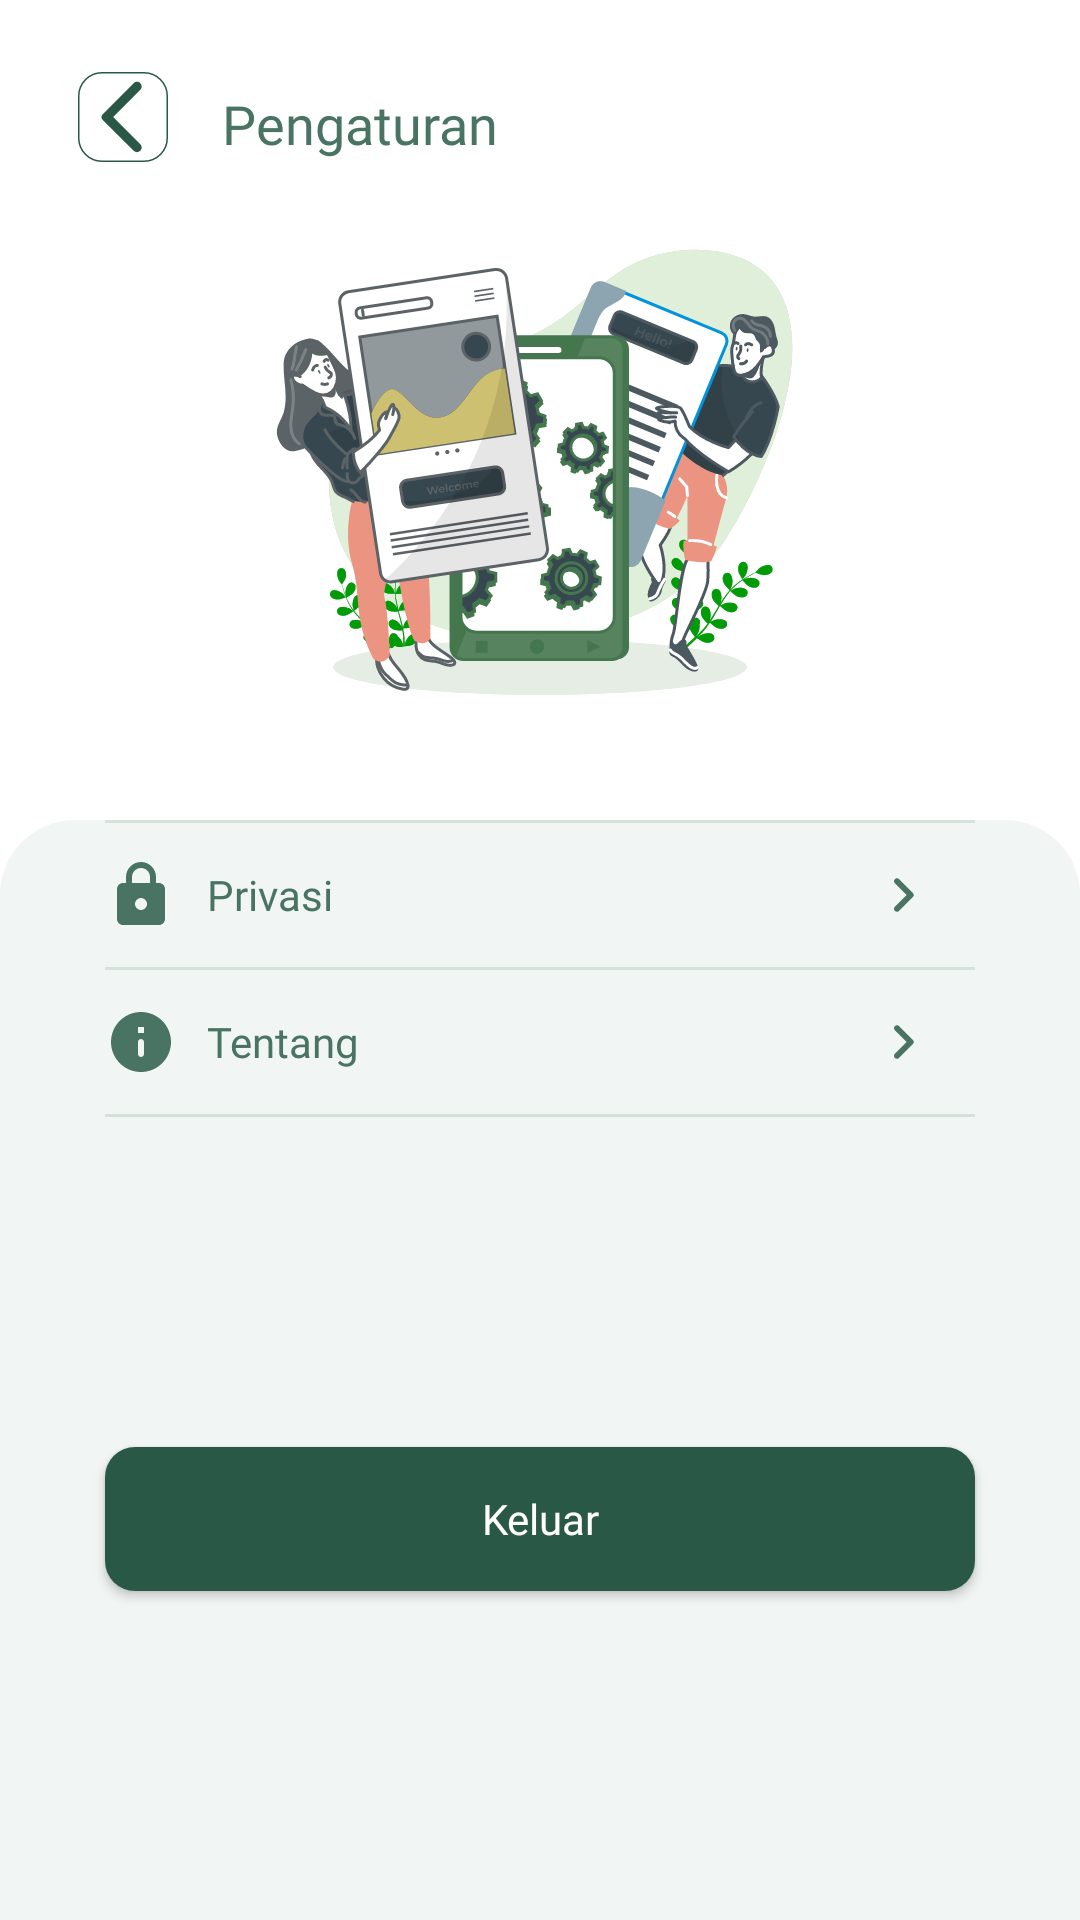

Point at icon controls on the screen. Image size 1080 × 1920, points as point (x, y).
about setting: point (141, 1042)
back: point (123, 117)
enter setting: point (904, 895), point (904, 1042)
privacy setting: point (141, 893)
